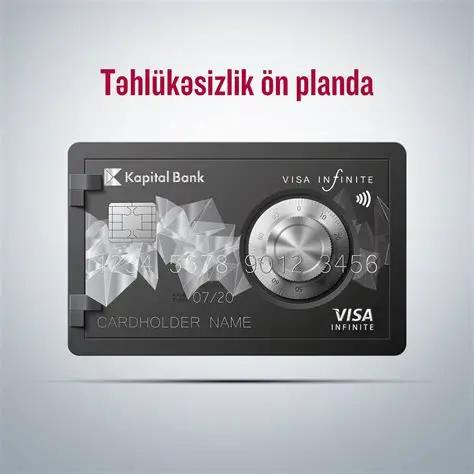Kapital Bank: (102, 167, 123, 187)
